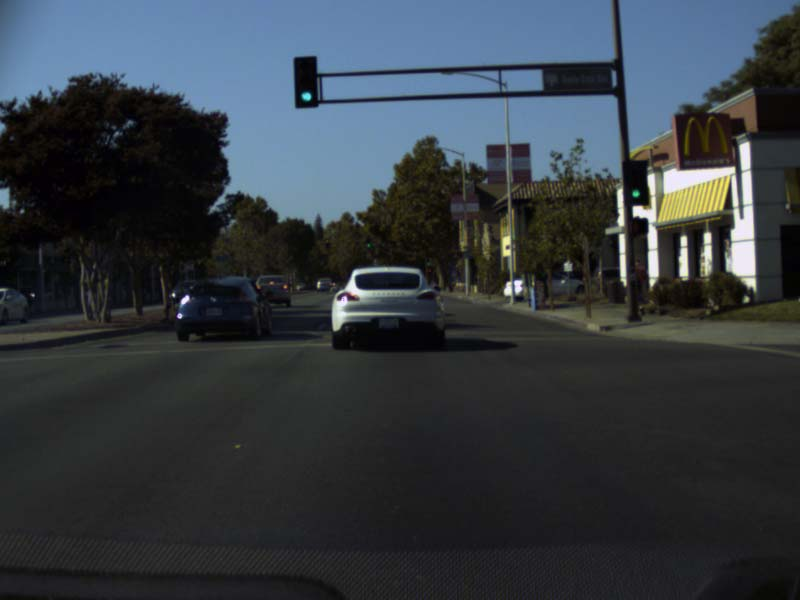Green: (294, 55, 318, 109), (623, 161, 649, 204), (366, 235, 371, 248), (426, 257, 431, 265)
Red: (325, 239, 329, 247), (426, 268, 430, 276)
